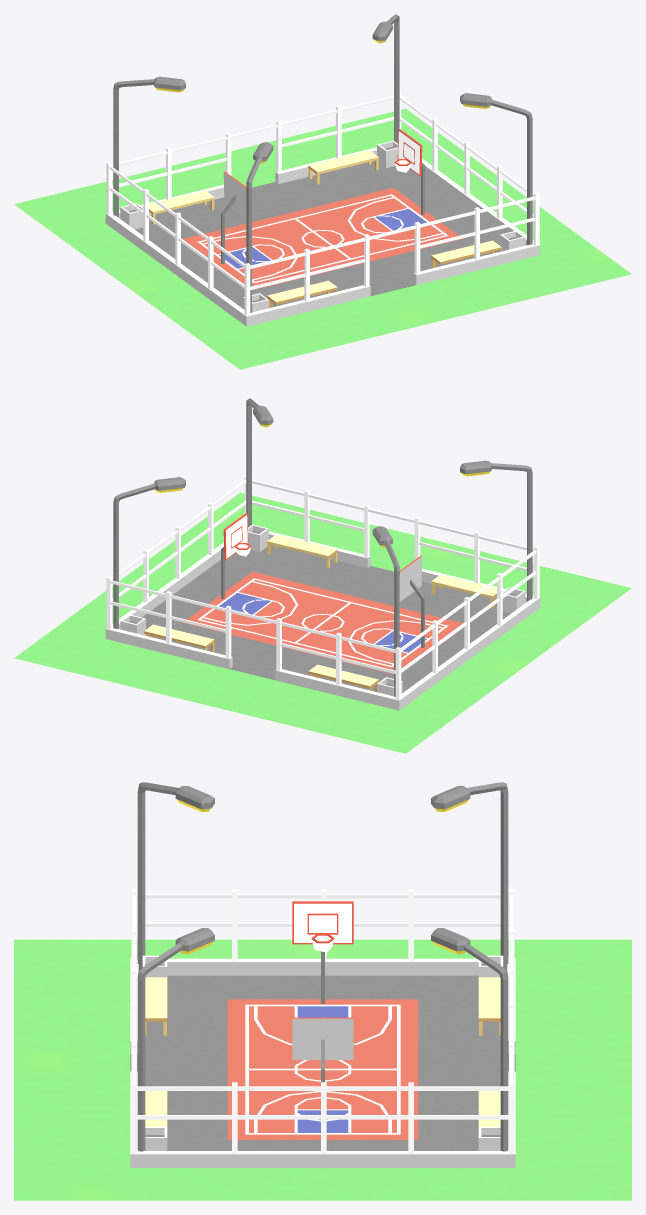
Rendered from landscape_entertainments.009.glb.
3 renders of one model, top to bottom at view 1: azimuth 30°, elevation 25°; view 2: azimuth 150°, elevation 25°; view 3: azimuth 270°, elevation 25°, orthographic. The views are drawn at different scales.
Parts seen in each view (by area): view 1: landscape_entertainments.009(Clone); view 2: landscape_entertainments.009(Clone); view 3: landscape_entertainments.009(Clone).
Boxes of the visible parts, x1,y1,x2,y2 form: landscape_entertainments.009(Clone): [14, 14, 631, 369]; landscape_entertainments.009(Clone): [14, 398, 631, 753]; landscape_entertainments.009(Clone): [14, 782, 631, 1200].
Bounding box in the file's own units: 16 × 6.16 × 16.
1 material, 1 textured.
